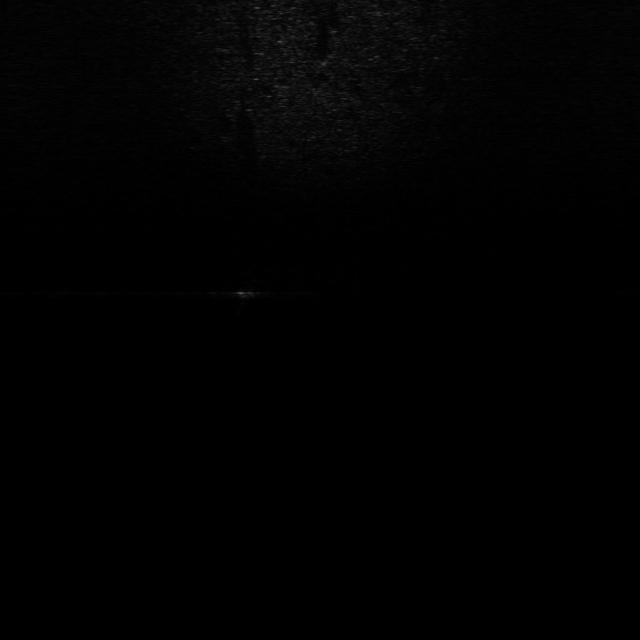human body: (230, 273, 260, 324)
